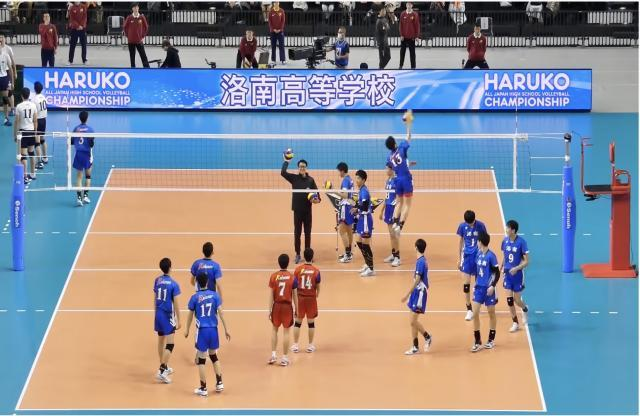spike: (382, 104, 418, 240)
